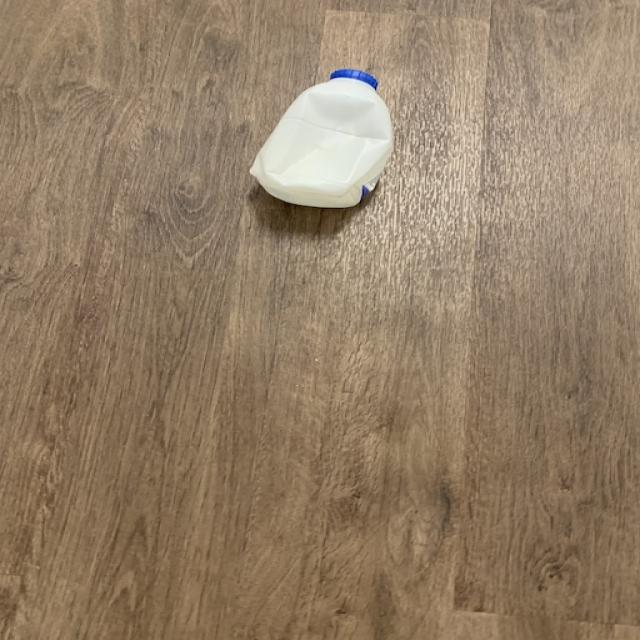litter: (258, 70, 407, 216)
